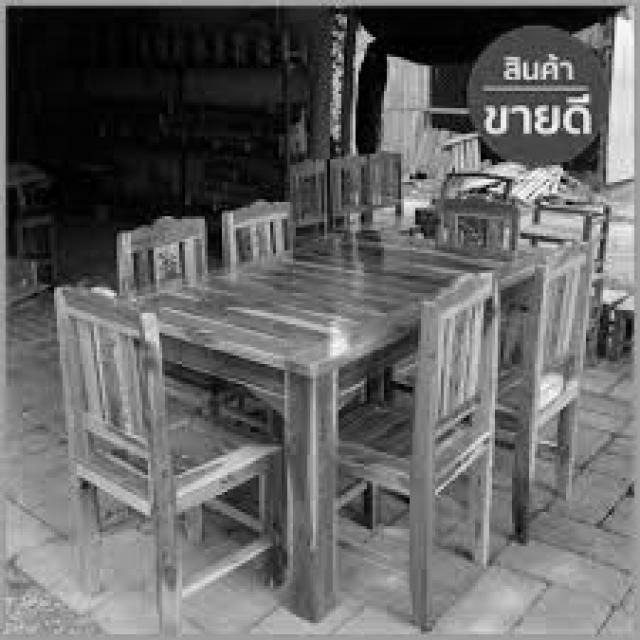table: (95, 200, 582, 388)
